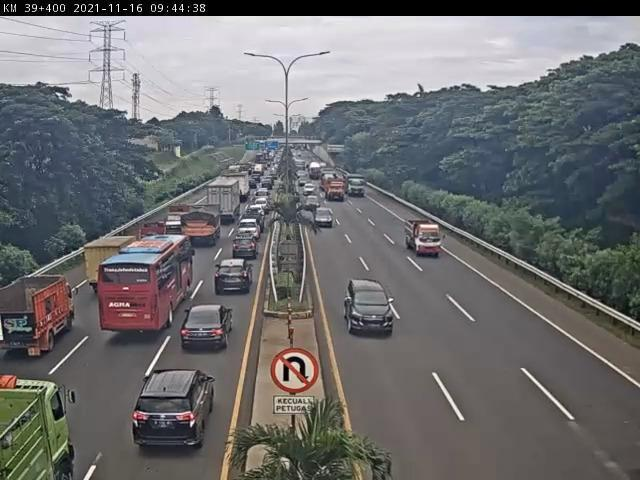bus: (101, 238, 199, 337)
car: (134, 368, 217, 447), (344, 279, 395, 333), (184, 306, 235, 352), (214, 262, 253, 298), (234, 238, 257, 261), (238, 220, 260, 243), (315, 207, 336, 229), (244, 215, 267, 232), (248, 204, 267, 219)
truck: (1, 277, 81, 357), (84, 237, 136, 289), (181, 208, 222, 248), (208, 183, 243, 224), (408, 220, 443, 260), (163, 207, 193, 236), (134, 221, 164, 249)
